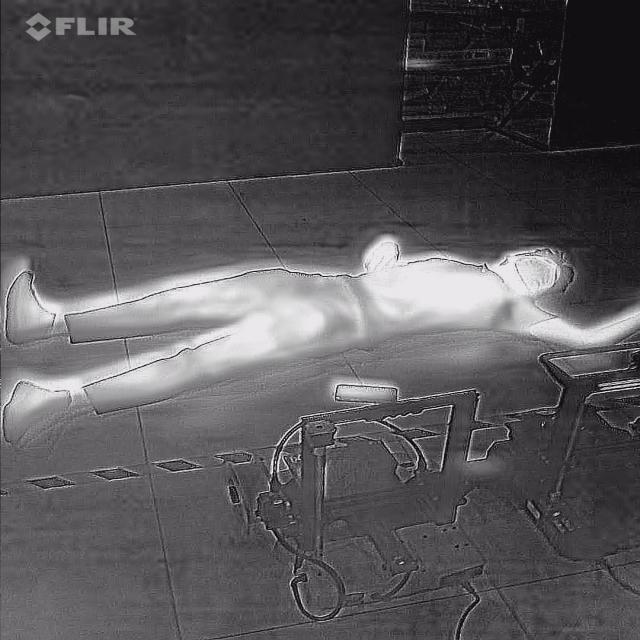Victim: (1, 233, 639, 452)
